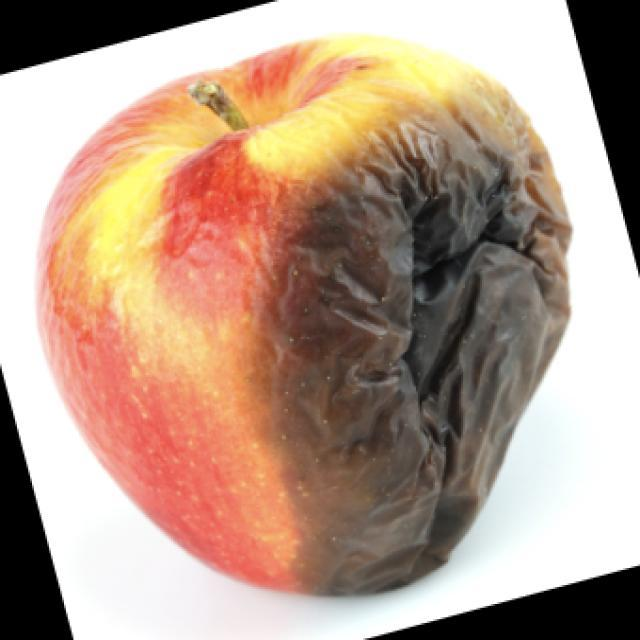Rotten: (21, 43, 582, 587)
